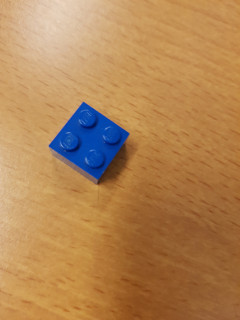2x2 blue: (46, 100, 133, 187)
